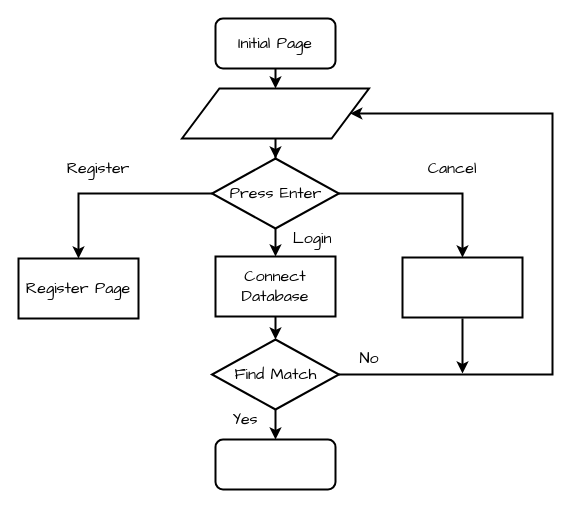
Image size: 578x507. Some labels were removed from this diagram. The box of each missing label's shape, as (x1, y1, x2, y2) in pixels:
Clean Message: (401, 256, 523, 318)
MyPage: (214, 438, 336, 490)
User Enters Info: (180, 87, 370, 139)
